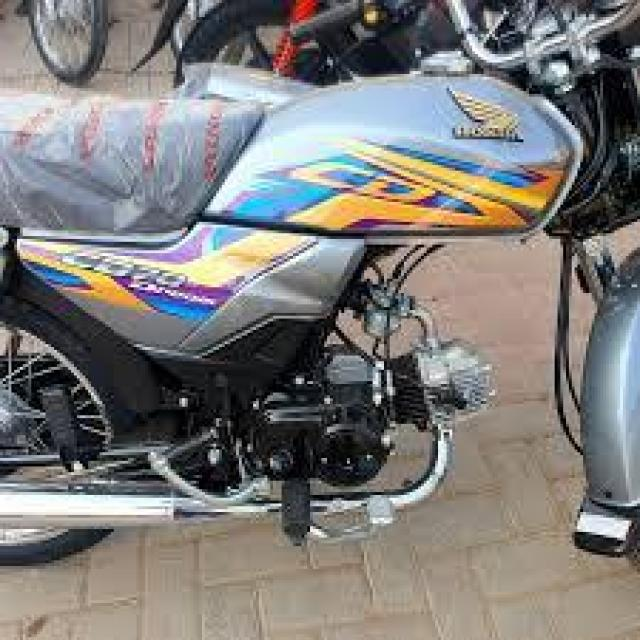motorcycle: (0, 11, 637, 555)
